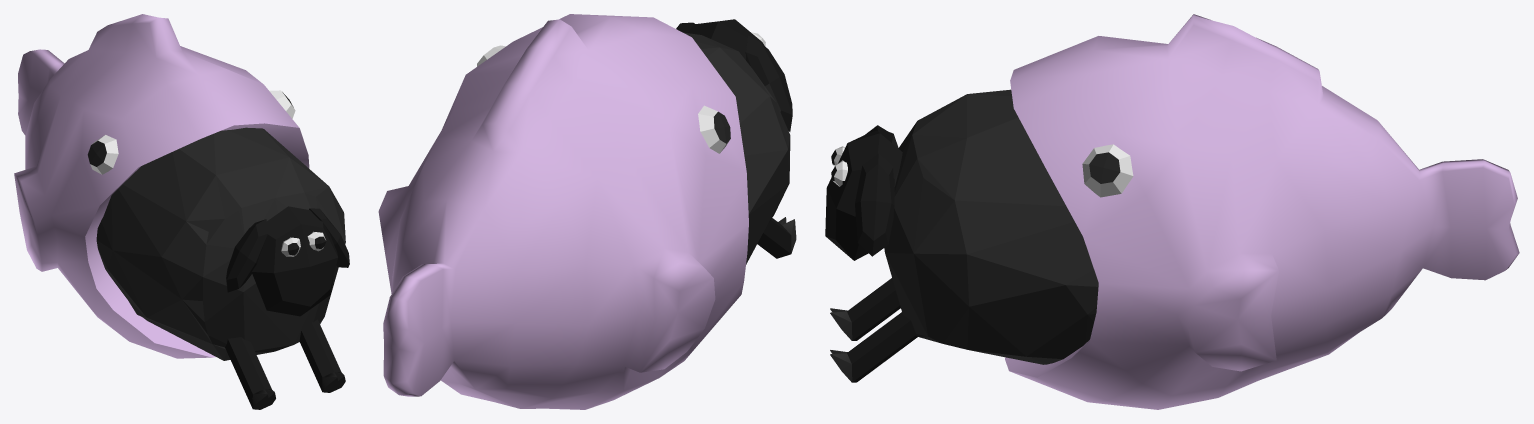
The model's file is ovca_crna_riba.fbx.
The picture shows the model from 3 angles, left to right: view 1: azimuth 30°, elevation 25°; view 2: azimuth 150°, elevation 25°; view 3: azimuth 270°, elevation 25°; orthographic projection. The views are drawn at different scales.
Visible parts, largest first — view 1: pCylinder12, fishcone_lo1, Sphere, Sphere.001; view 2: fishcone_lo1, pCylinder12, Sphere; view 3: fishcone_lo1, pCylinder12, Sphere.001.
Boxes of the visible parts, x1,y1,x2,y2 form: pCylinder12: [96, 127, 349, 409]; fishcone_lo1: [14, 14, 309, 358]; Sphere: [87, 135, 118, 174]; Sphere.001: [269, 90, 295, 118]; fishcone_lo1: [378, 14, 748, 409]; pCylinder12: [676, 19, 796, 264]; Sphere: [698, 105, 730, 153]; fishcone_lo1: [1005, 14, 1519, 409]; pCylinder12: [825, 89, 1098, 382]; Sphere.001: [1082, 144, 1133, 197].
Size of the model in its own units: 107 by 129 by 212.
